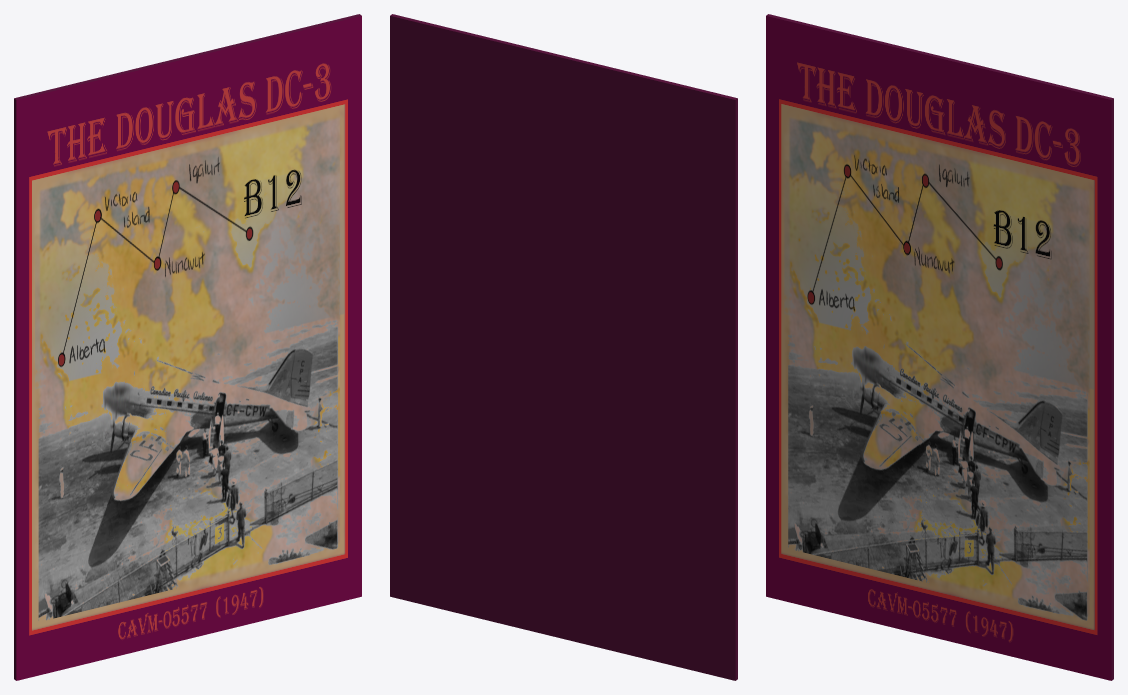
File: AirplanePoster.glb
The picture shows the model from 3 angles, left to right: view 1: azimuth 30°, elevation 25°; view 2: azimuth 150°, elevation 25°; view 3: azimuth 330°, elevation 25°; orthographic projection.
Visible parts, largest first — view 1: Airplane_Poster; view 2: Airplane_Poster; view 3: Airplane_Poster.
Boxes of the visible parts, x1,y1,x2,y2 form: Airplane_Poster: (14, 14, 361, 680); Airplane_Poster: (390, 14, 737, 680); Airplane_Poster: (766, 14, 1113, 680).
Bounding box in the file's own units: 2.37 × 3.81 × 0.0288.
1 material, 1 textured.
